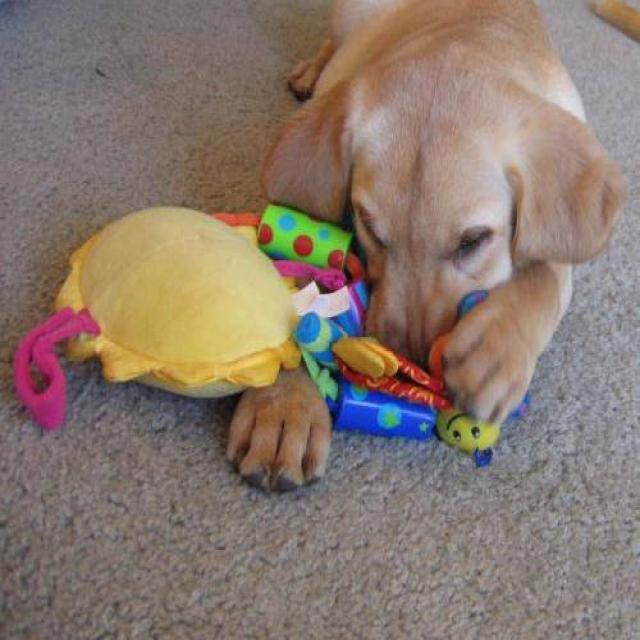Dog: (254, 50, 631, 398)
